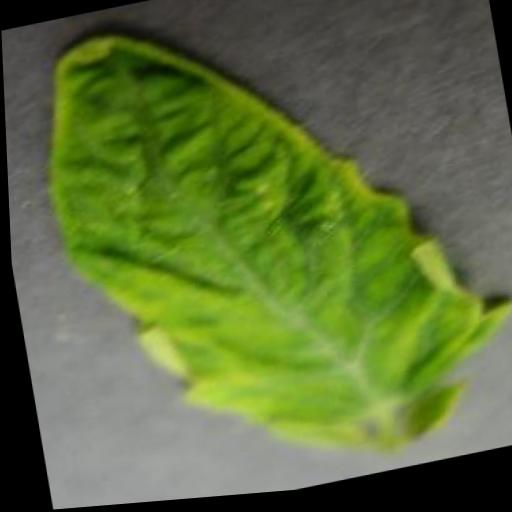Yellow Leaf Curl Virus: (25, 0, 512, 510)
